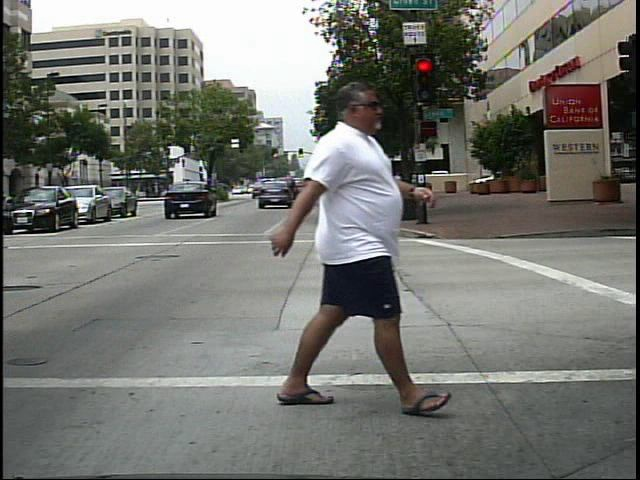person: (259, 74, 437, 420)
